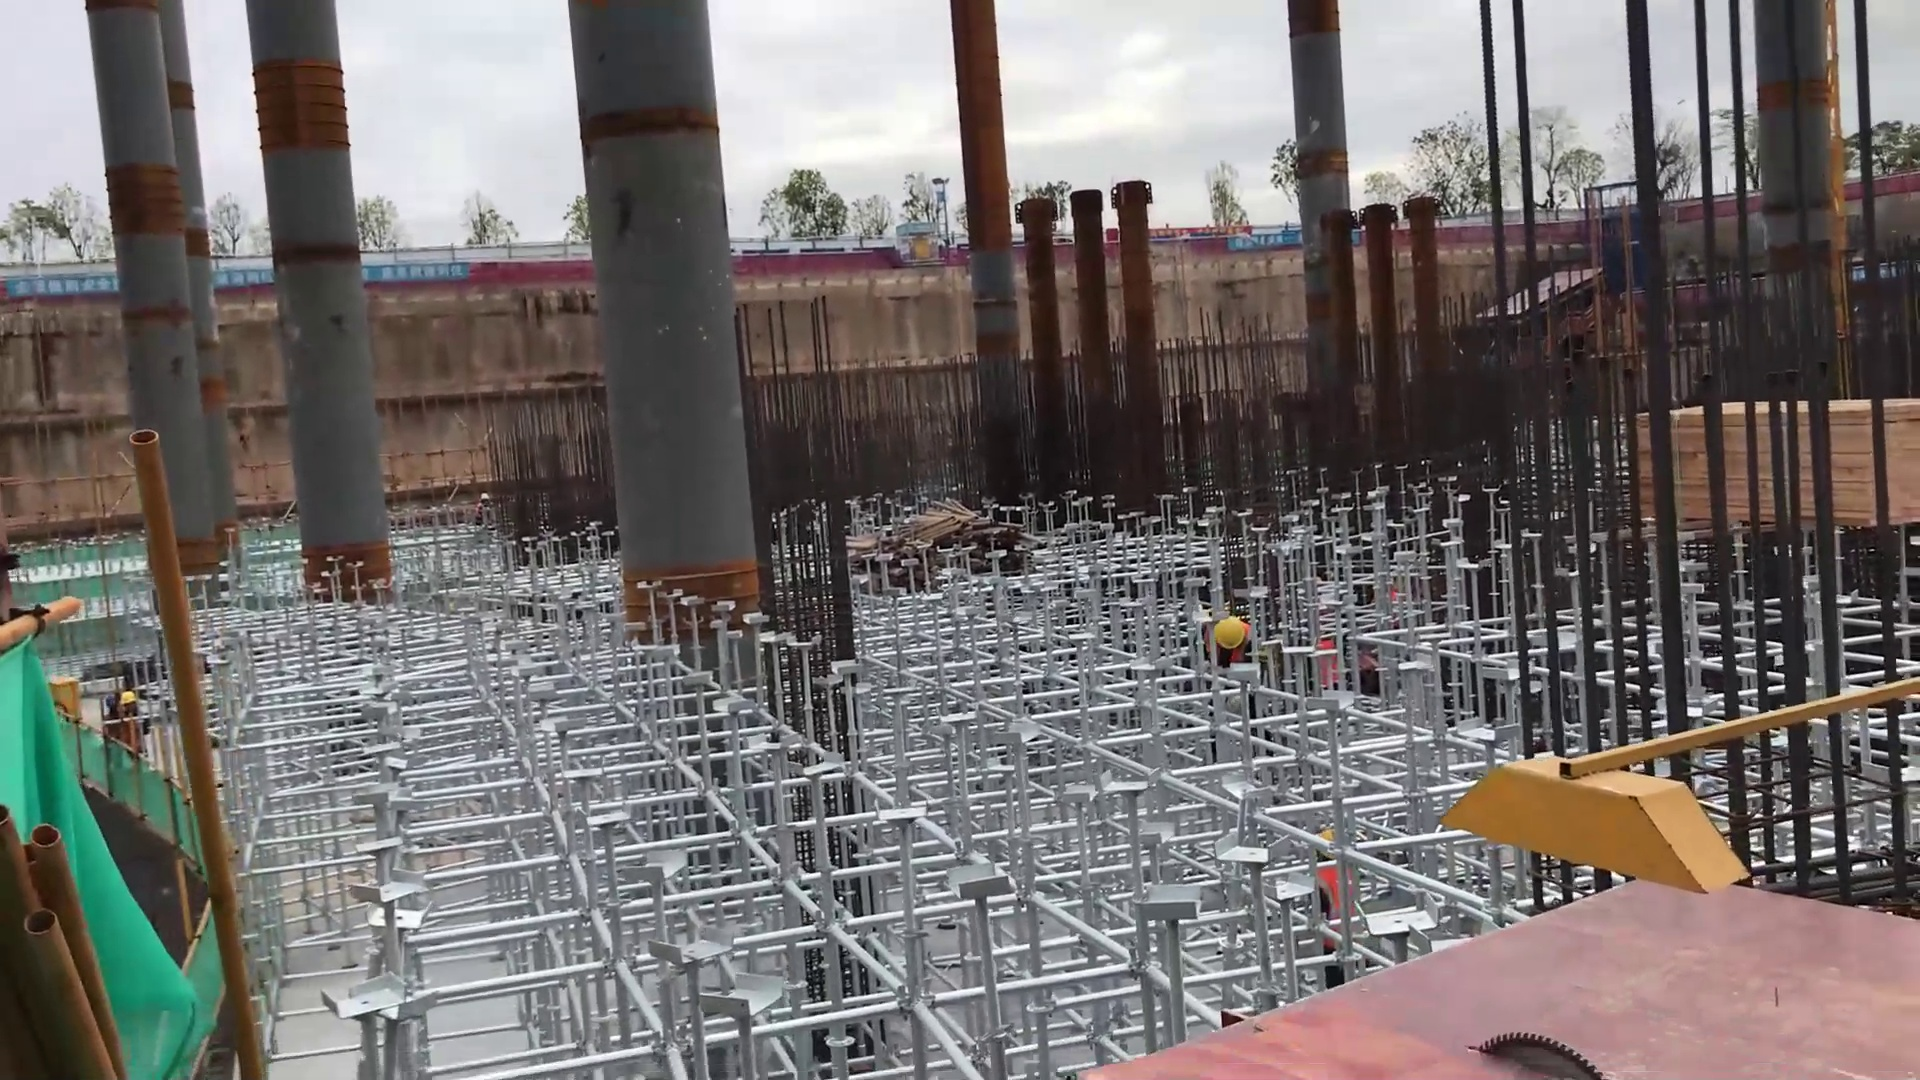cutter: (1296, 859, 1895, 1080)
helmet: (1206, 614, 1246, 646), (1318, 827, 1342, 856)
person: (1314, 820, 1368, 989), (102, 681, 163, 770), (1204, 609, 1269, 684), (1307, 614, 1355, 697)
vest: (1318, 851, 1358, 952), (1317, 639, 1342, 692), (1220, 625, 1248, 666), (122, 709, 141, 752)
wood: (1651, 402, 1920, 533), (871, 499, 1014, 569)
